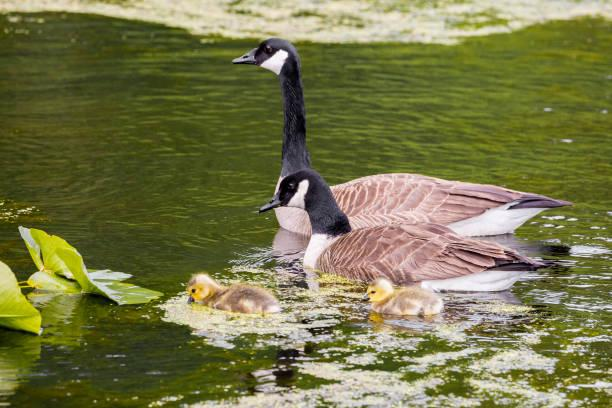Canadian-Goose: (229, 36, 573, 237), (258, 168, 542, 293), (183, 271, 286, 314), (360, 277, 447, 320)
